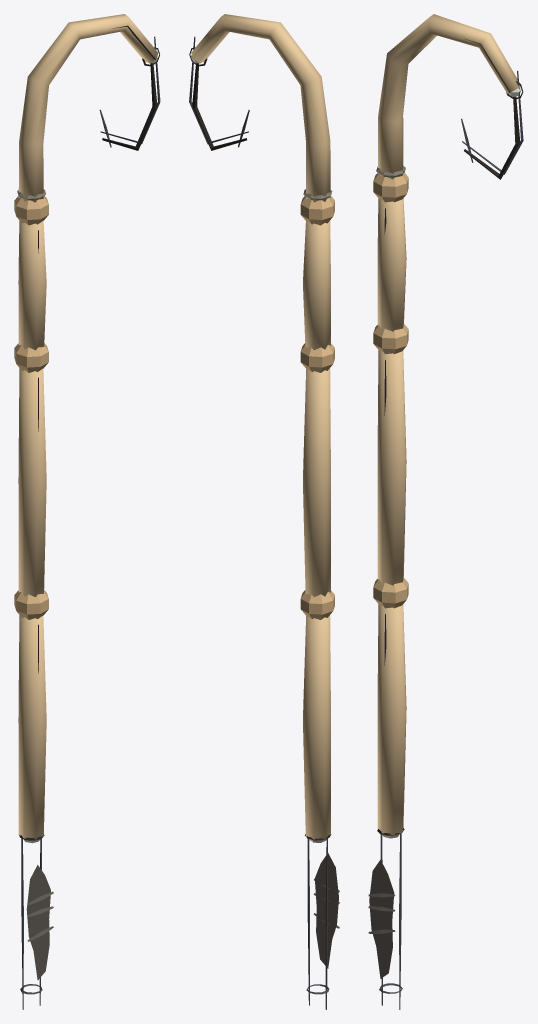
File: HookPole.fbx
The picture shows the model from 3 angles, left to right: view 1: azimuth 30°, elevation 25°; view 2: azimuth 150°, elevation 25°; view 3: azimuth 330°, elevation 25°; orthographic projection. The views are drawn at different scales.
Parts seen in each view (by area): view 1: Pole, Hook, Lines; view 2: Pole, Hook, Lines; view 3: Pole, Hook, Lines.
Part boxes in pixels (x1=…): Pole: x1=14, y1=196, x2=48, y2=843; Hook: x1=17, y1=14, x2=158, y2=202; Lines: x1=19, y1=25, x2=160, y2=1009; Pole: x1=300, y1=196, x2=334, y2=842; Hook: x1=191, y1=14, x2=332, y2=202; Lines: x1=189, y1=36, x2=339, y2=1009; Pole: x1=373, y1=172, x2=408, y2=838; Hook: x1=376, y1=14, x2=521, y2=179; Lines: x1=368, y1=38, x2=523, y2=1009.
Bounding box in the file's own units: 0.4094 × 2.64 × 0.0929.
